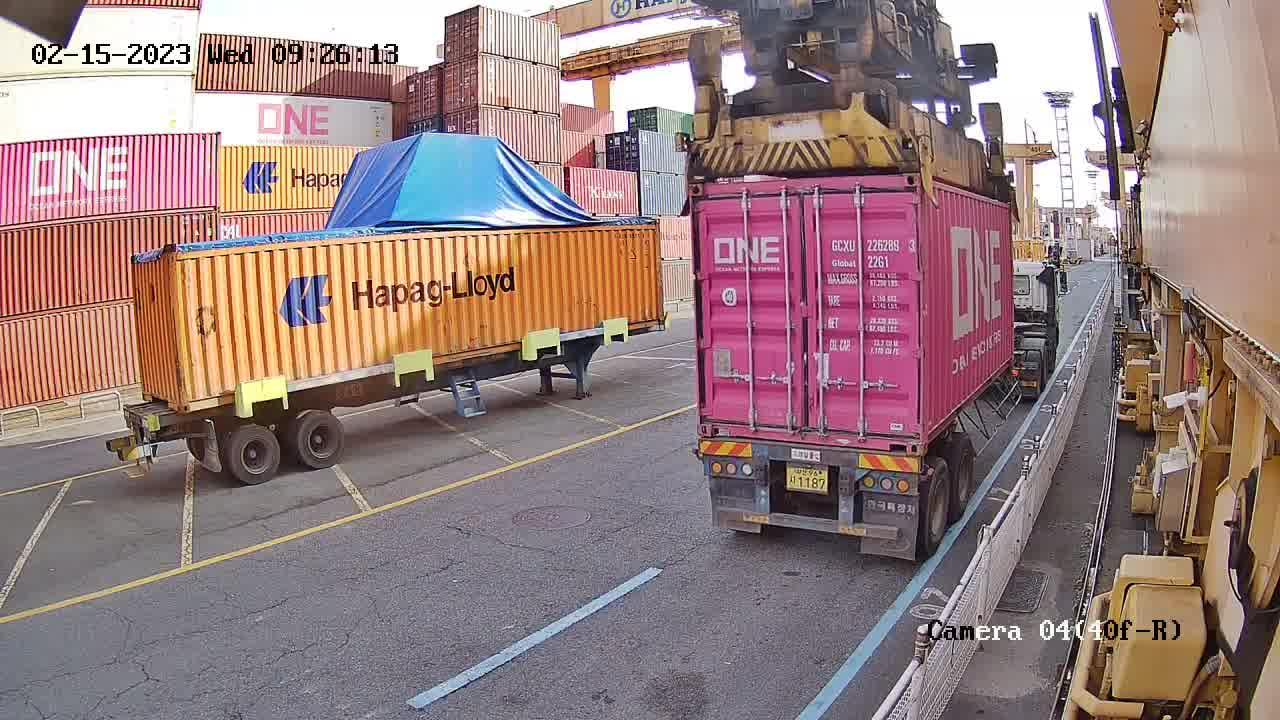Chassis: (702, 440, 922, 494)
Cone: (692, 442, 710, 464), (912, 458, 927, 479)
Hole_L: (696, 399, 738, 436)
Hole_R: (879, 408, 923, 458)
Tire: (921, 462, 952, 552), (949, 442, 976, 510)
